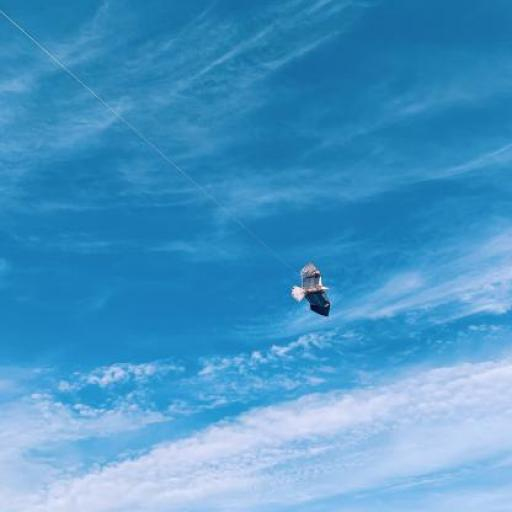bird: (289, 261, 334, 317)
